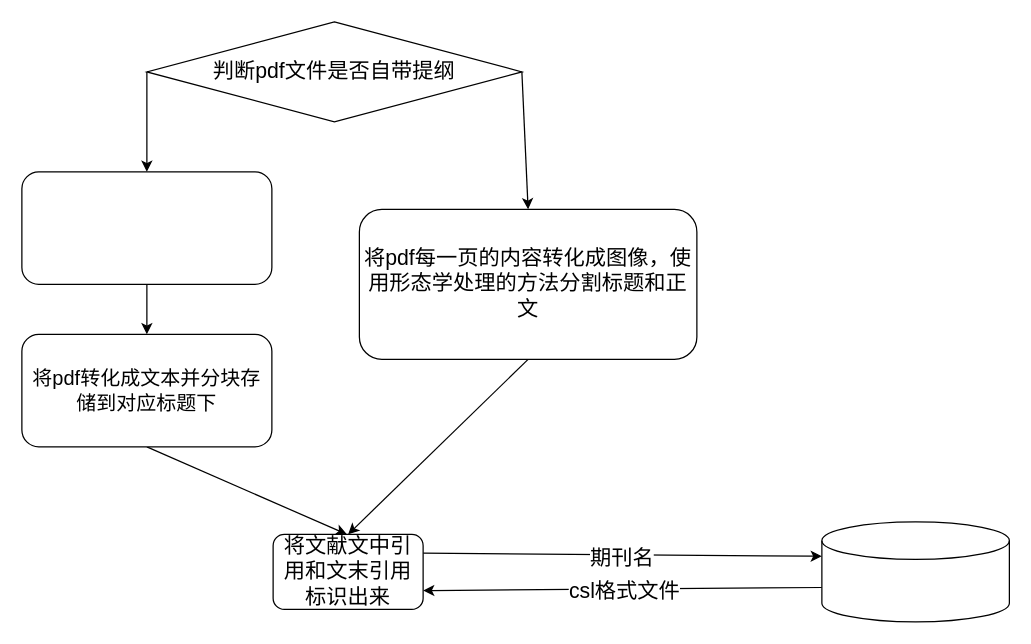
Image size: 1031x644. Some labels were removed from this diagram. The shapes that lost their labels are listed below. From the top down, each one's box as (x1, y1, x2, y2) in pixels, then its label:
(21, 171, 272, 284): 提取提纲，并根据提纲定位各级标题其在pdf中的位置
(821, 521, 1009, 622): CSL格式数据库
